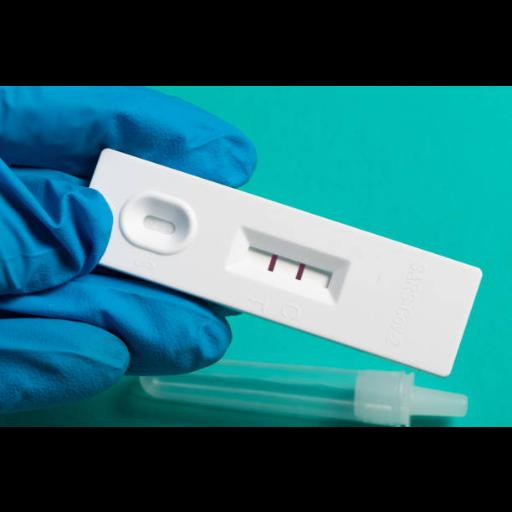Pos: (70, 147, 485, 380)
